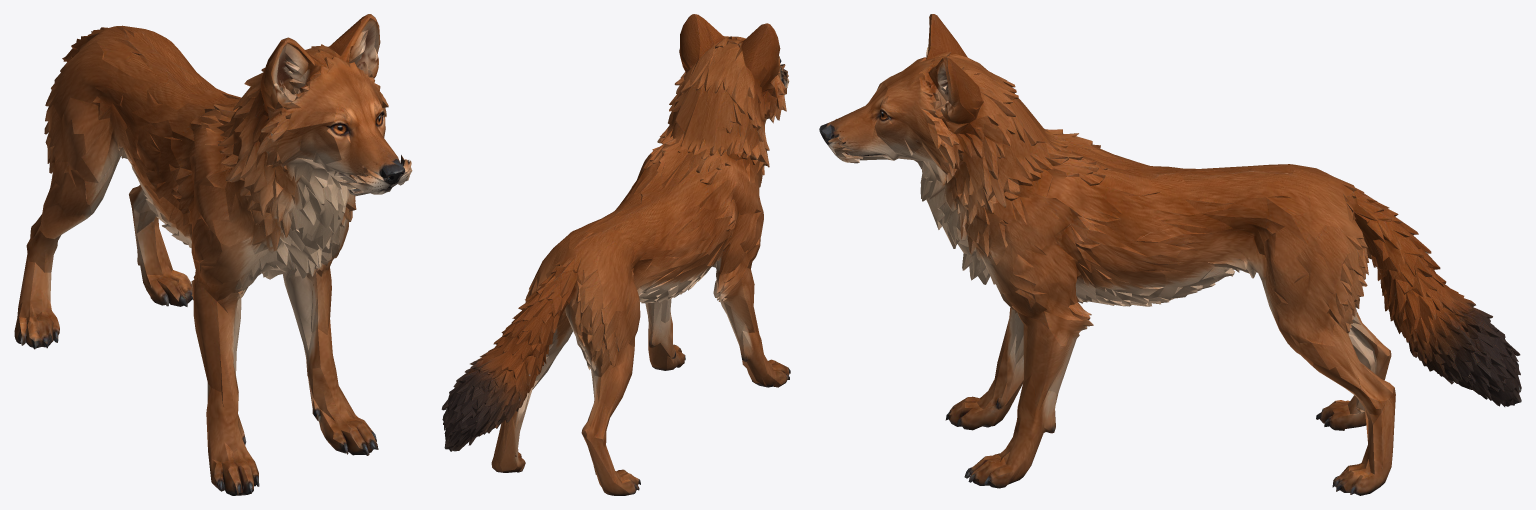
File: dhole.glb
3 views of the same model, side by side, from view 1: azimuth 30°, elevation 25°; view 2: azimuth 150°, elevation 25°; view 3: azimuth 270°, elevation 25° (orthographic). The views are drawn at different scales.
Size of the model in its own units: 0.534 by 1.26 by 1.9.
Materials: 1 (1 with a texture image).
